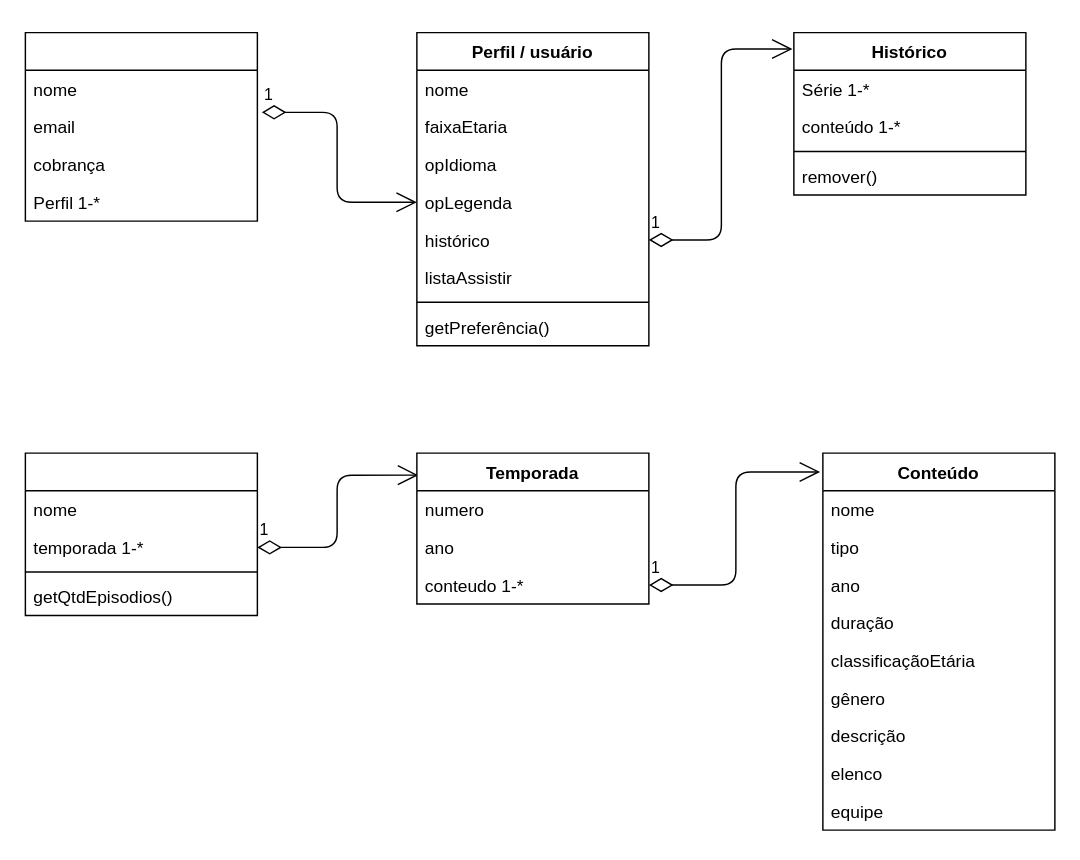
The diagram is 1080 pixels wide and 860 high, and some of its shapes have lost their labels. Here are the shapes that lost their labels. From the top down, the box of each, then its label:
(24, 31, 257, 221): Conta
(24, 452, 257, 616): Série
